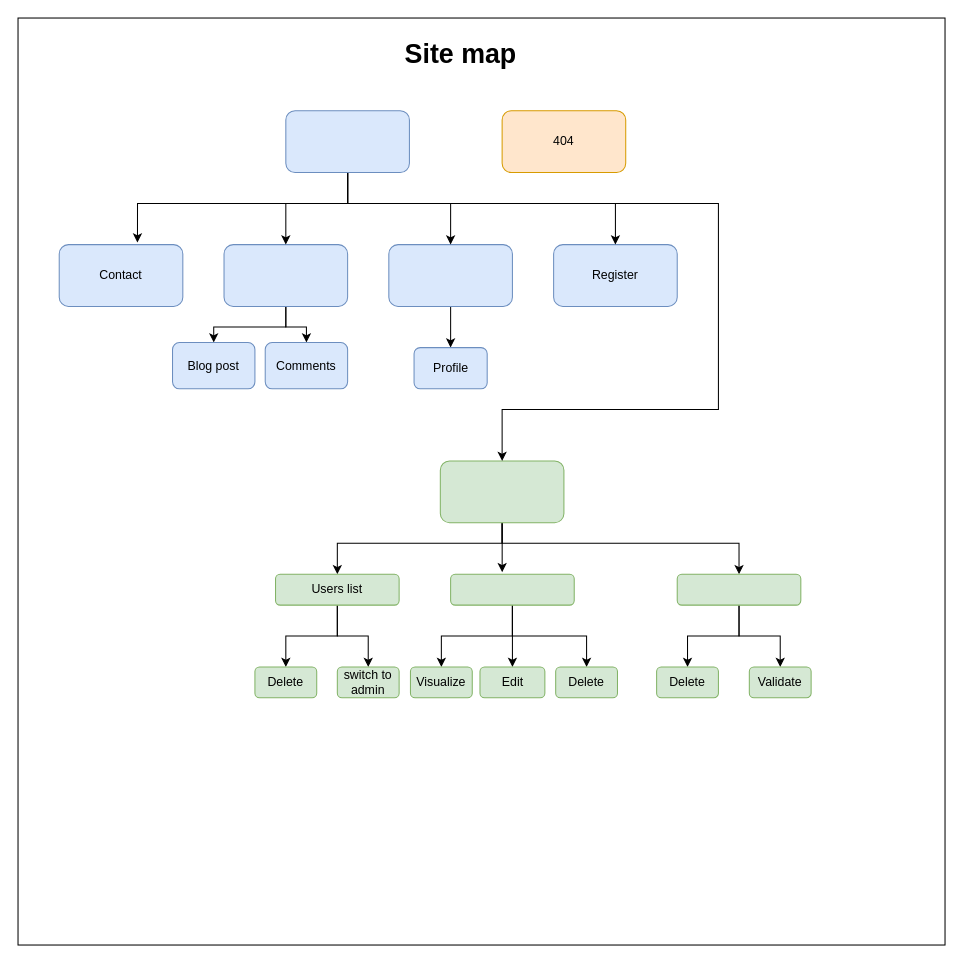
Some shapes in this 963 by 963 pixel diagram are drawn without their labels. Each missing label, with the centre of its shape:
Admin Dashboard: (x=501, y=491)
Blog: (x=285, y=275)
Blog posts list: (x=512, y=589)
Comments list: (x=738, y=589)
Login: (x=450, y=275)
Page d'accueil: (x=347, y=141)
